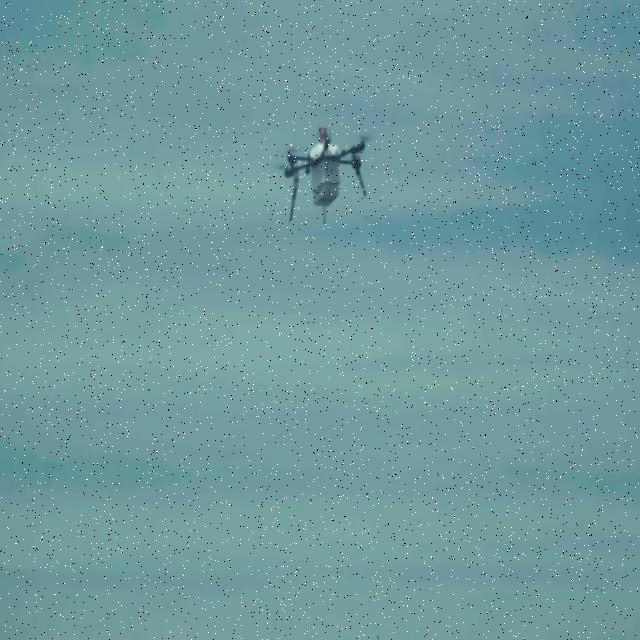UAV: (274, 127, 374, 224)
